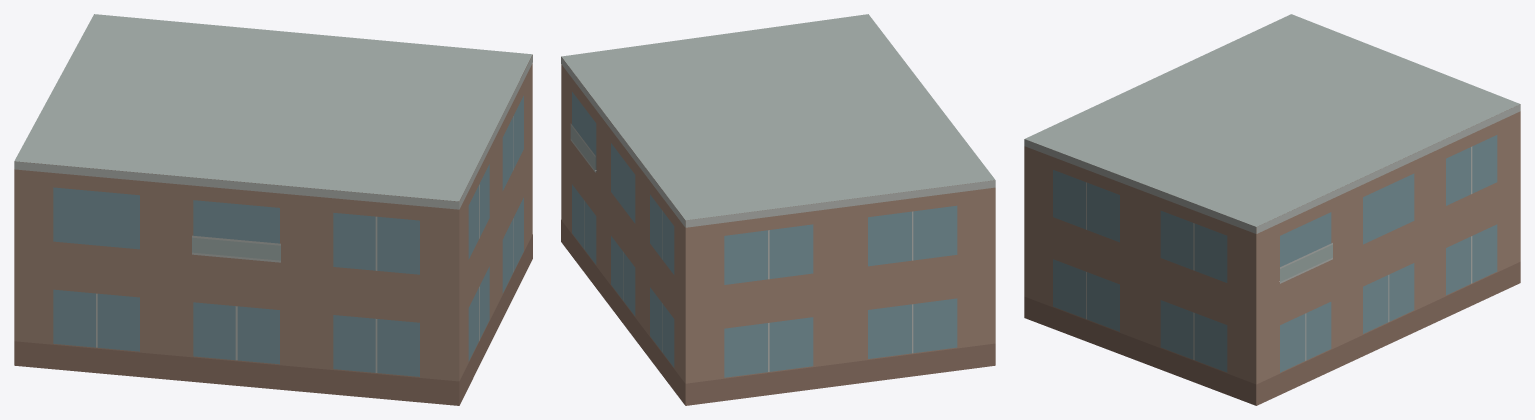
The model's file is survey-upis-33017711.glb.
The picture shows the model from 3 angles, left to right: view 1: azimuth 30°, elevation 25°; view 2: azimuth 150°, elevation 25°; view 3: azimuth 270°, elevation 25°; orthographic projection. The views are drawn at different scales.
Visible parts, largest first — view 1: survey-upis-33017711.tmp; view 2: survey-upis-33017711.tmp; view 3: survey-upis-33017711.tmp.
Boxes of the visible parts, x1,y1,x2,y2 form: survey-upis-33017711.tmp: (14, 14, 532, 405); survey-upis-33017711.tmp: (561, 14, 995, 405); survey-upis-33017711.tmp: (1024, 14, 1520, 405).
Bounding box in the file's own units: 15.58 × 6.1 × 15.34.
